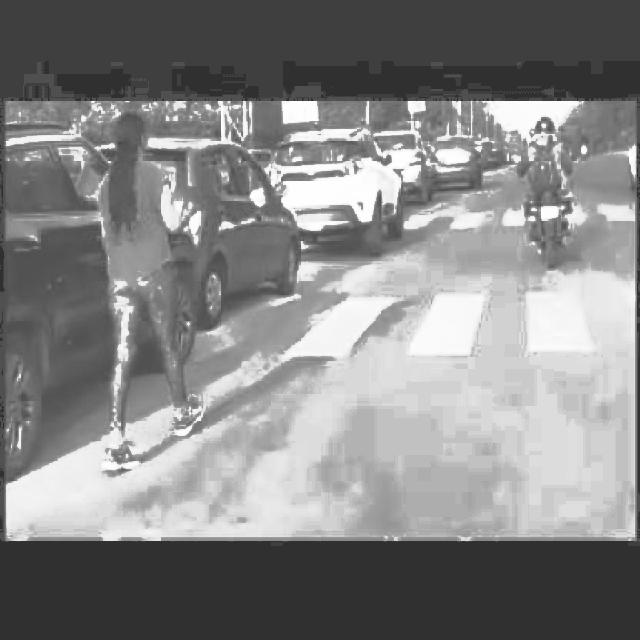Car: (0, 121, 194, 454), (121, 126, 307, 329), (278, 130, 409, 262), (424, 126, 494, 199), (380, 134, 436, 201)
